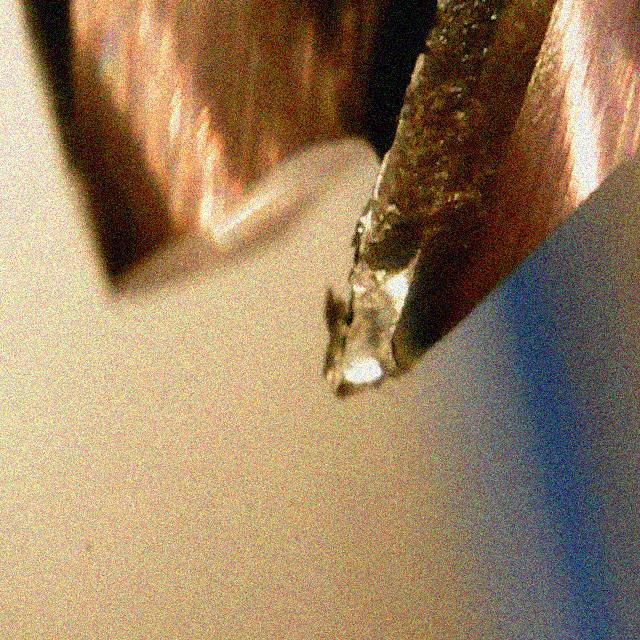Tool-wear-class-2: (316, 28, 510, 405)
